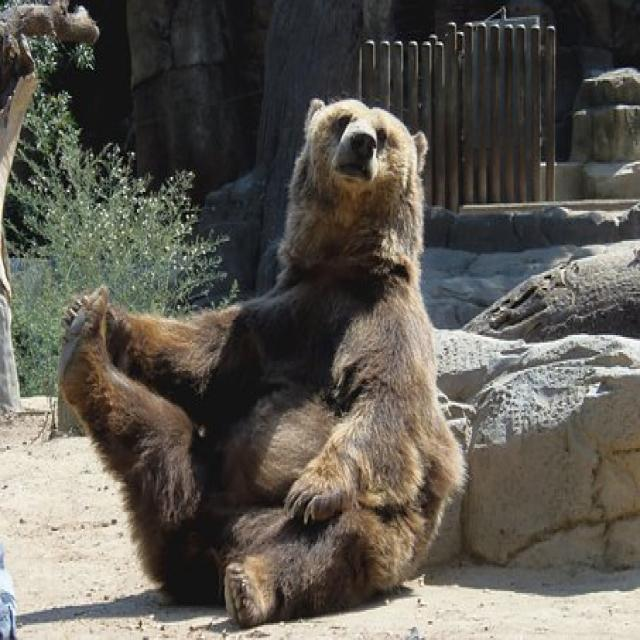Bear: (57, 100, 466, 632)
